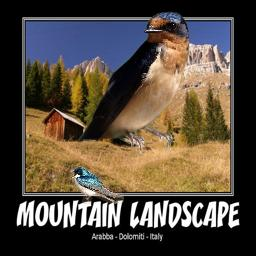Swallow: (78, 11, 189, 154), (70, 166, 124, 204)
